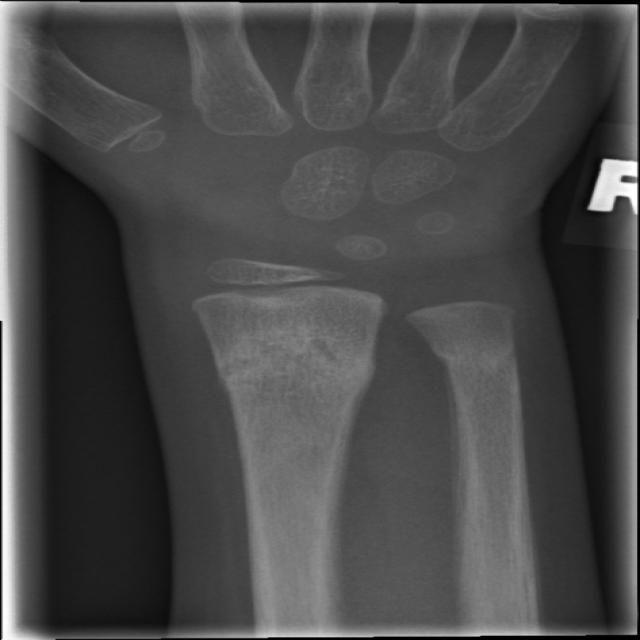radius fracture: (156, 308, 408, 452)
ulna fracture: (390, 292, 556, 449)
